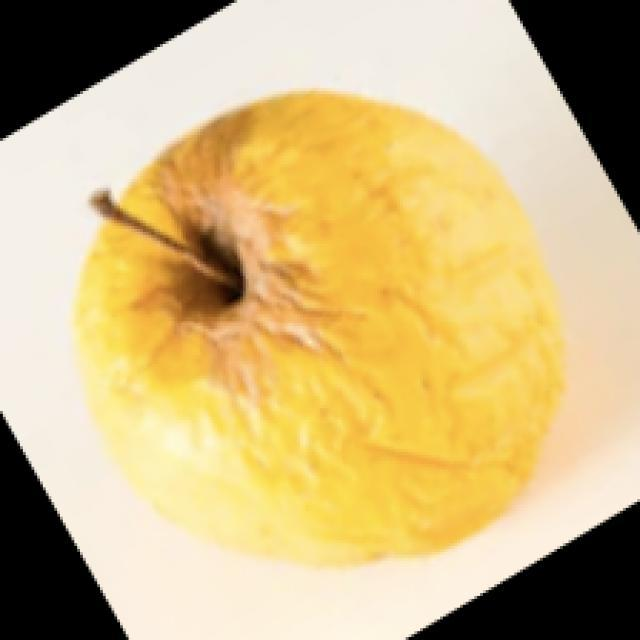Rotten: (82, 75, 580, 558)
